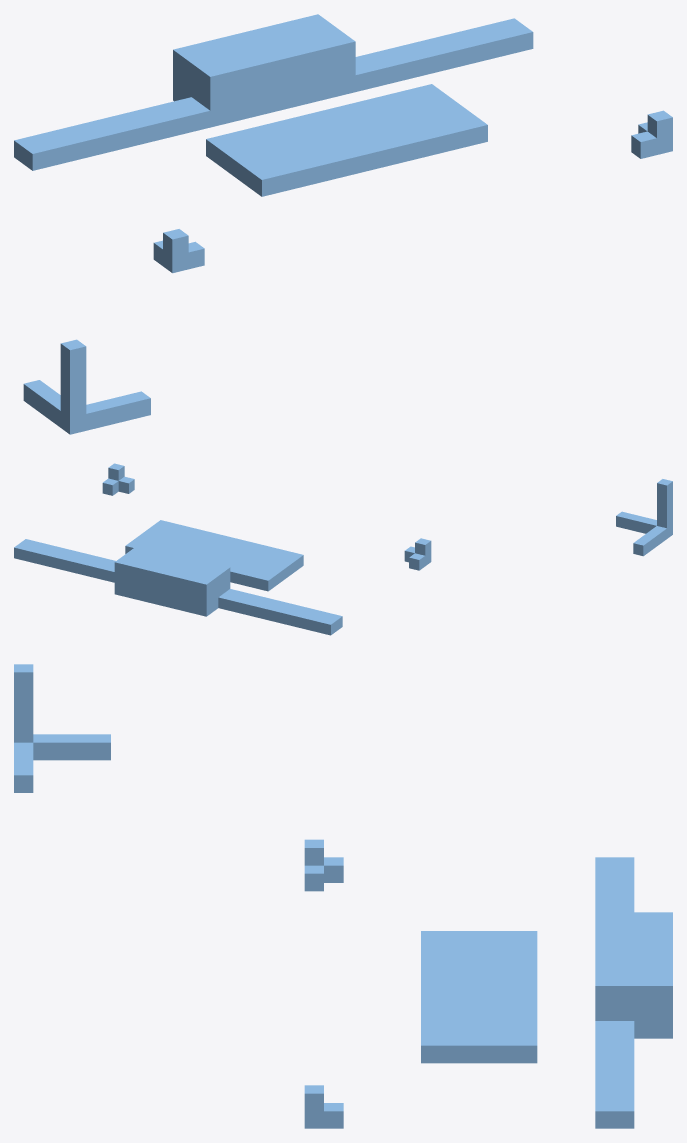
3 renders of one model, top to bottom at view 1: azimuth 30°, elevation 25°; view 2: azimuth 150°, elevation 25°; view 3: azimuth 270°, elevation 25°, orthographic. The views are drawn at different scales.
Parts seen in each view (by area): view 1: test; view 2: test; view 3: test.
Boxes of the visible parts, <box> form: test: <box>14,14,672,434</box>; test: <box>14,463,672,635</box>; test: <box>14,664,672,1128</box>.
Bounding box in the file's own units: 46 × 5 × 34.
1 material, 1 textured.
